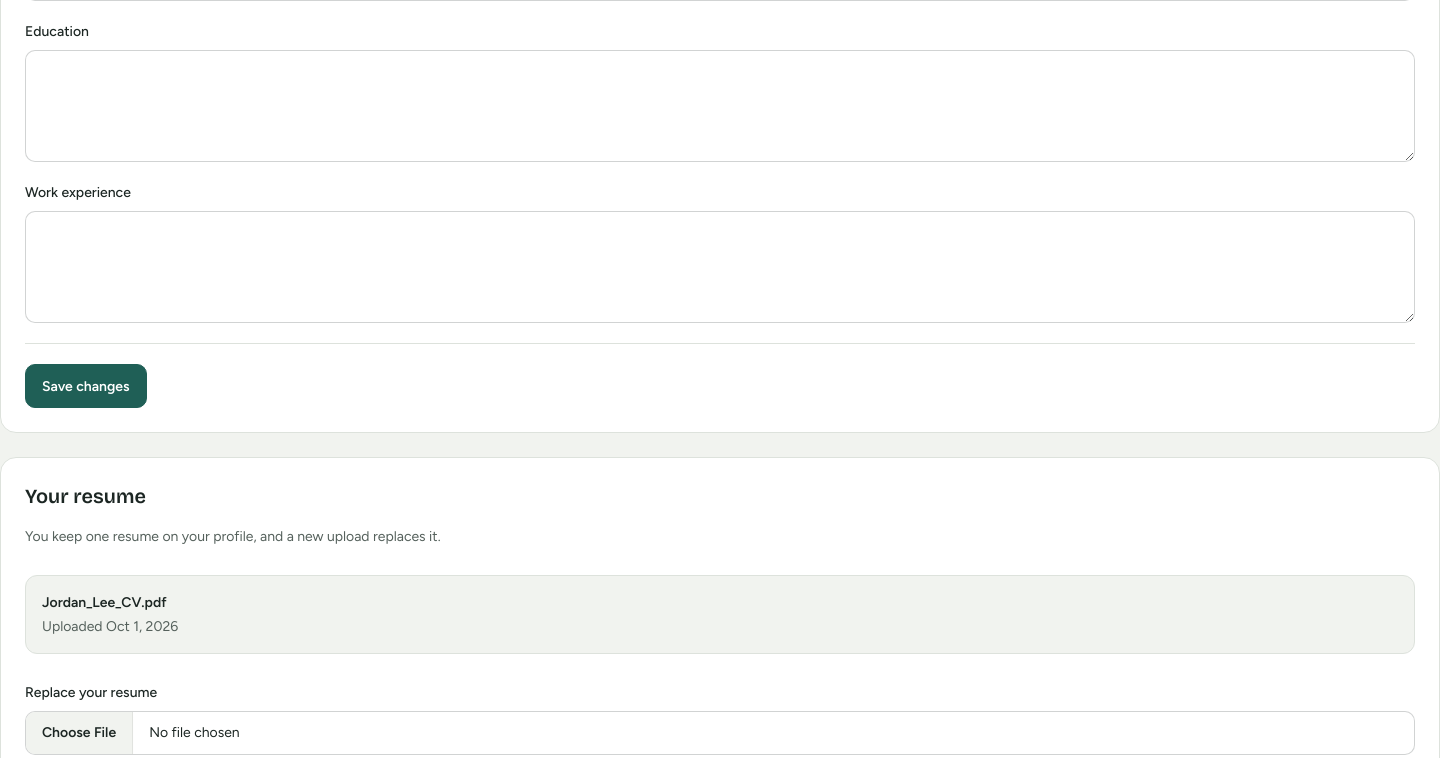
ProfilePreview › ends a session the backend refused
(page scrolled)
Click the button "Save changes" at (86,386), box [25,364,146,408]
(page scrolled)
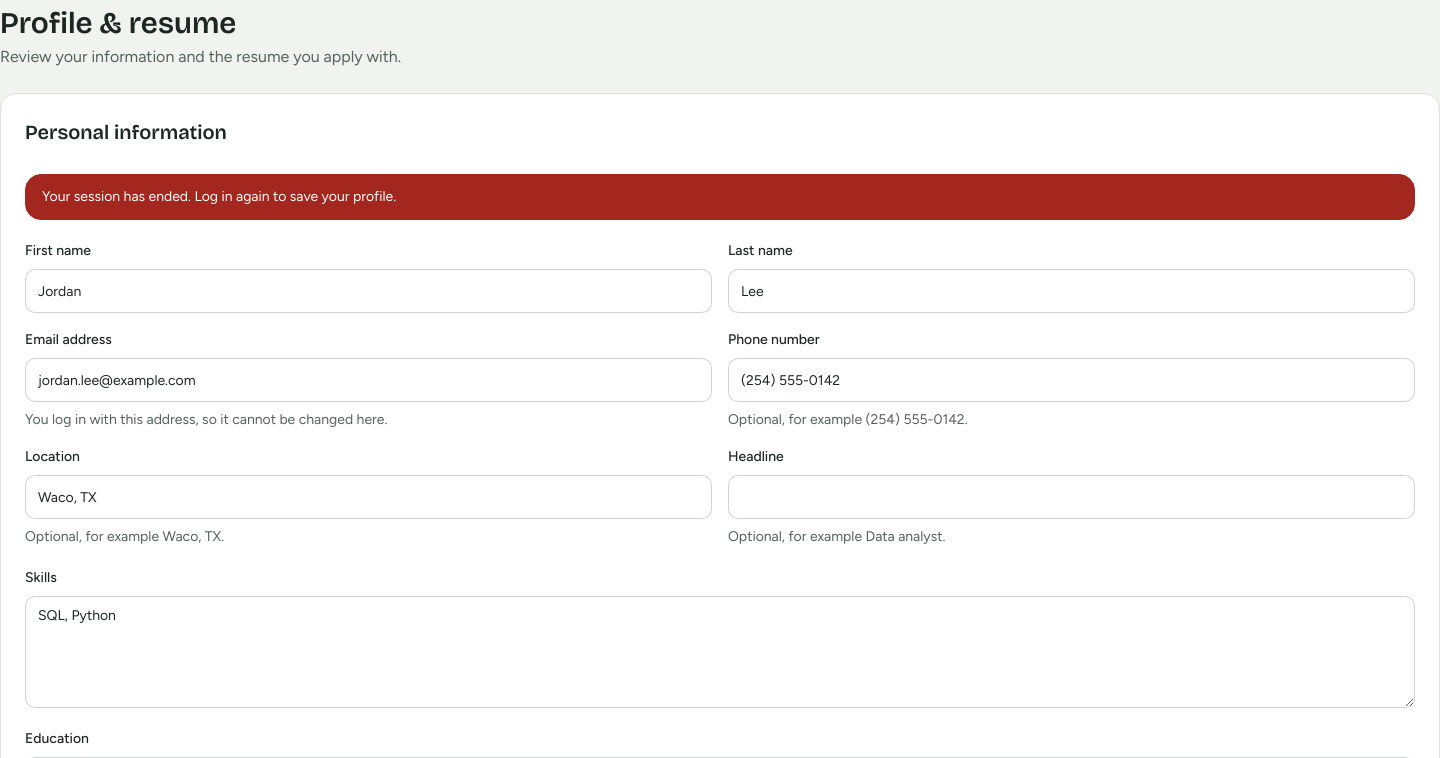
Now the message shows "Your session has ended", box [42,188,396,205]
